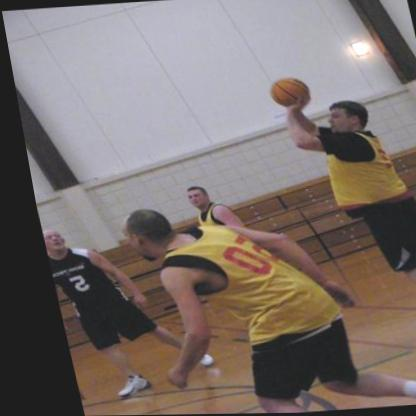basketball: (263, 77, 308, 108)
